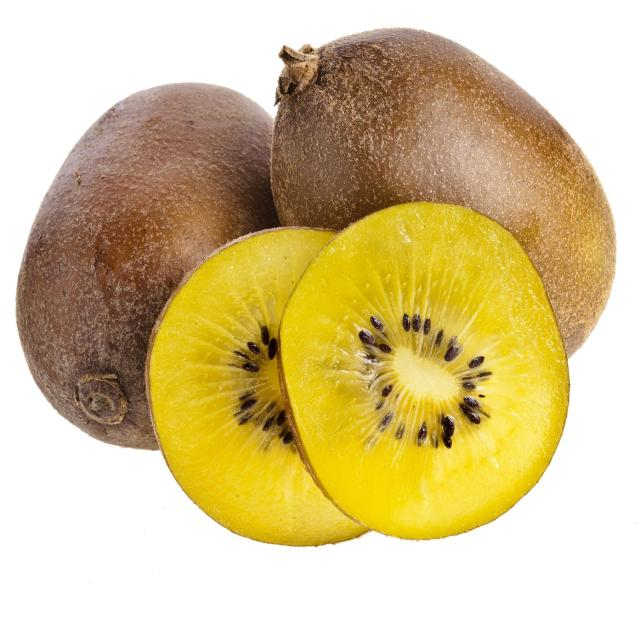Chilli Pepper: (264, 28, 612, 357), (133, 207, 444, 574), (22, 78, 305, 462), (286, 197, 570, 552)
